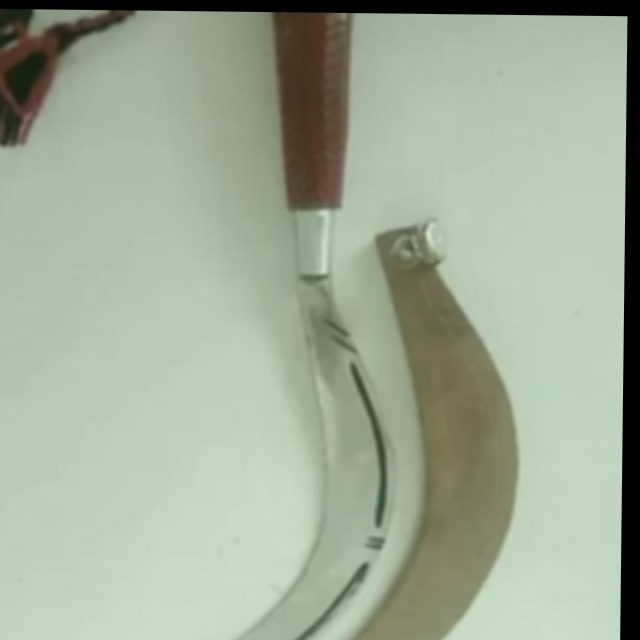Sharp-Object: (142, 19, 403, 640)
